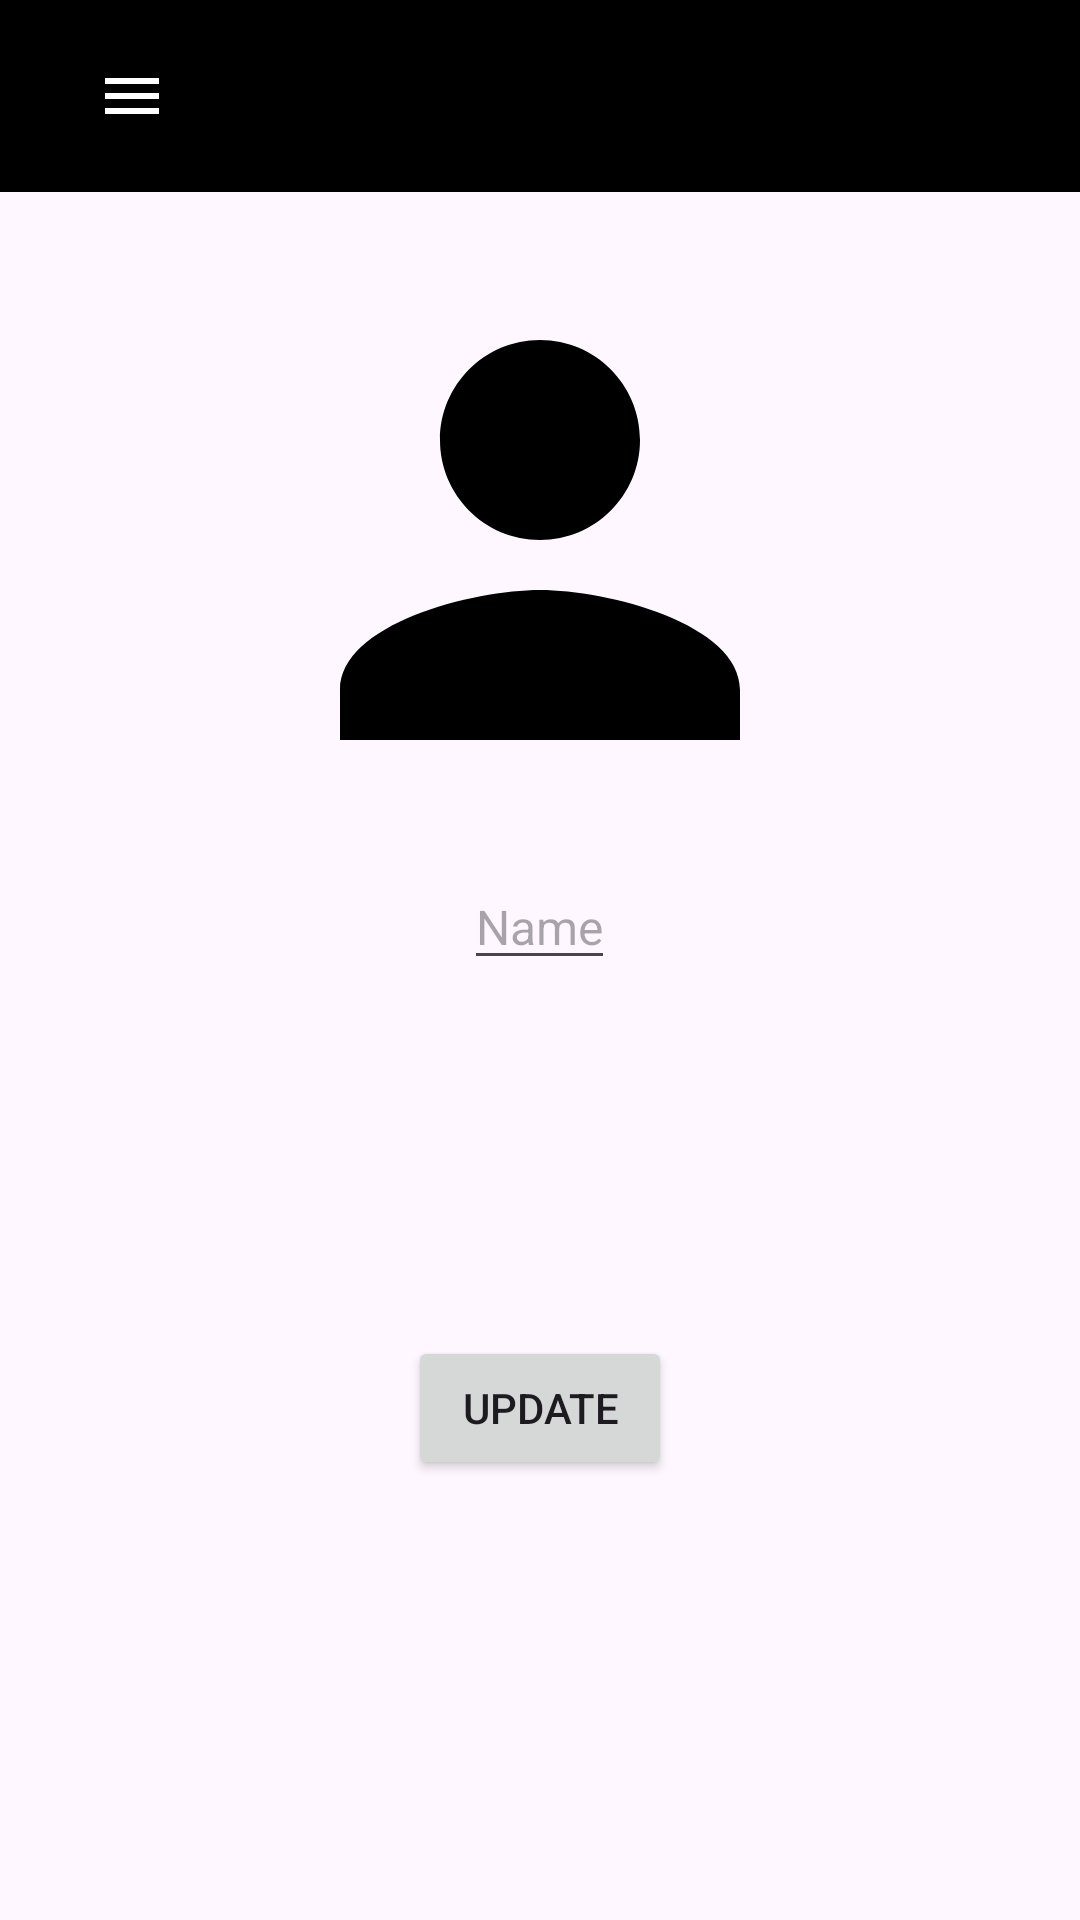

Screen size 1080x1920. Icon name, then its center in pixels as point (x, y):
Menu: point (132, 96)
